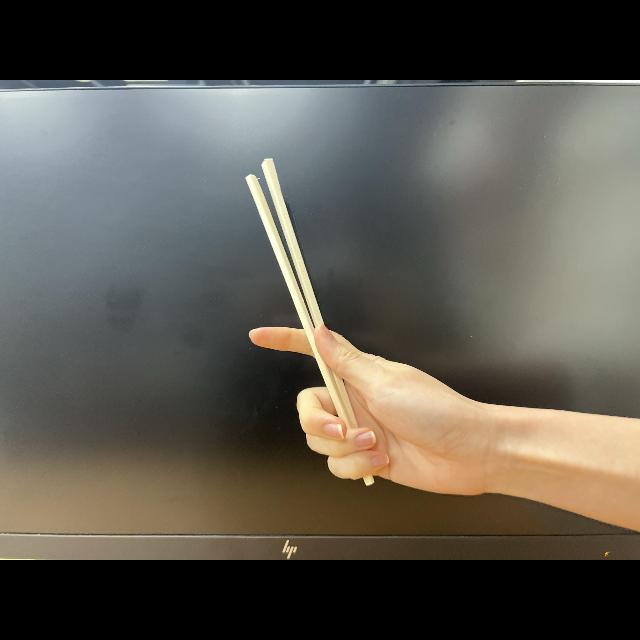stick: (246, 160, 474, 500)
